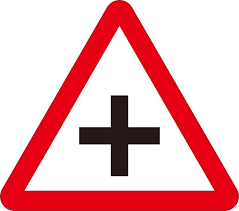Fork_road: (1, 1, 237, 211)
